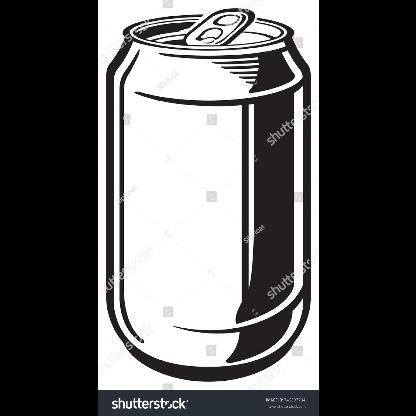Lid_Open: (150, 6, 254, 62)
Tin_Can: (108, 6, 314, 386)
